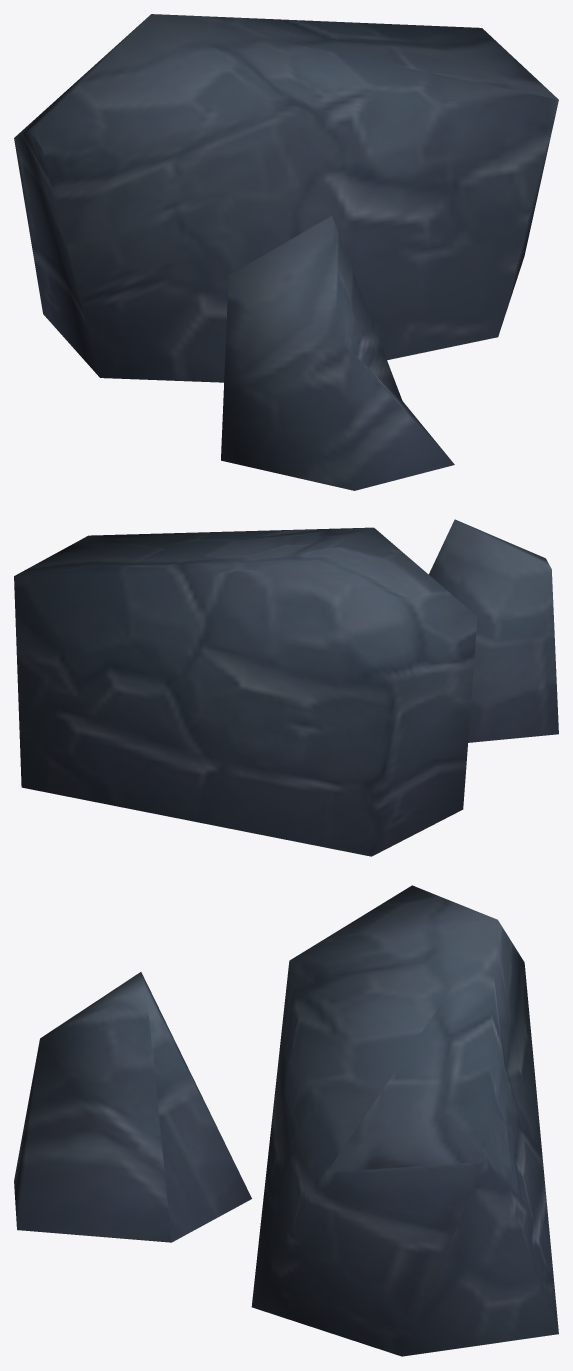
Rendered from Area_10_4.fbx.
3 views of the same model, one above another, from view 1: azimuth 30°, elevation 25°; view 2: azimuth 150°, elevation 25°; view 3: azimuth 270°, elevation 25° (orthographic). The views are drawn at different scales.
Visible parts, largest first — view 1: Area_10_4; view 2: Area_10_4; view 3: Area_10_4.
Boxes of the visible parts, x1,y1,x2,y2 form: Area_10_4: (14,14,558,490); Area_10_4: (14,519,558,856); Area_10_4: (14,885,558,1356).
Size of the model in its own units: 2114 by 1198 by 2100.
